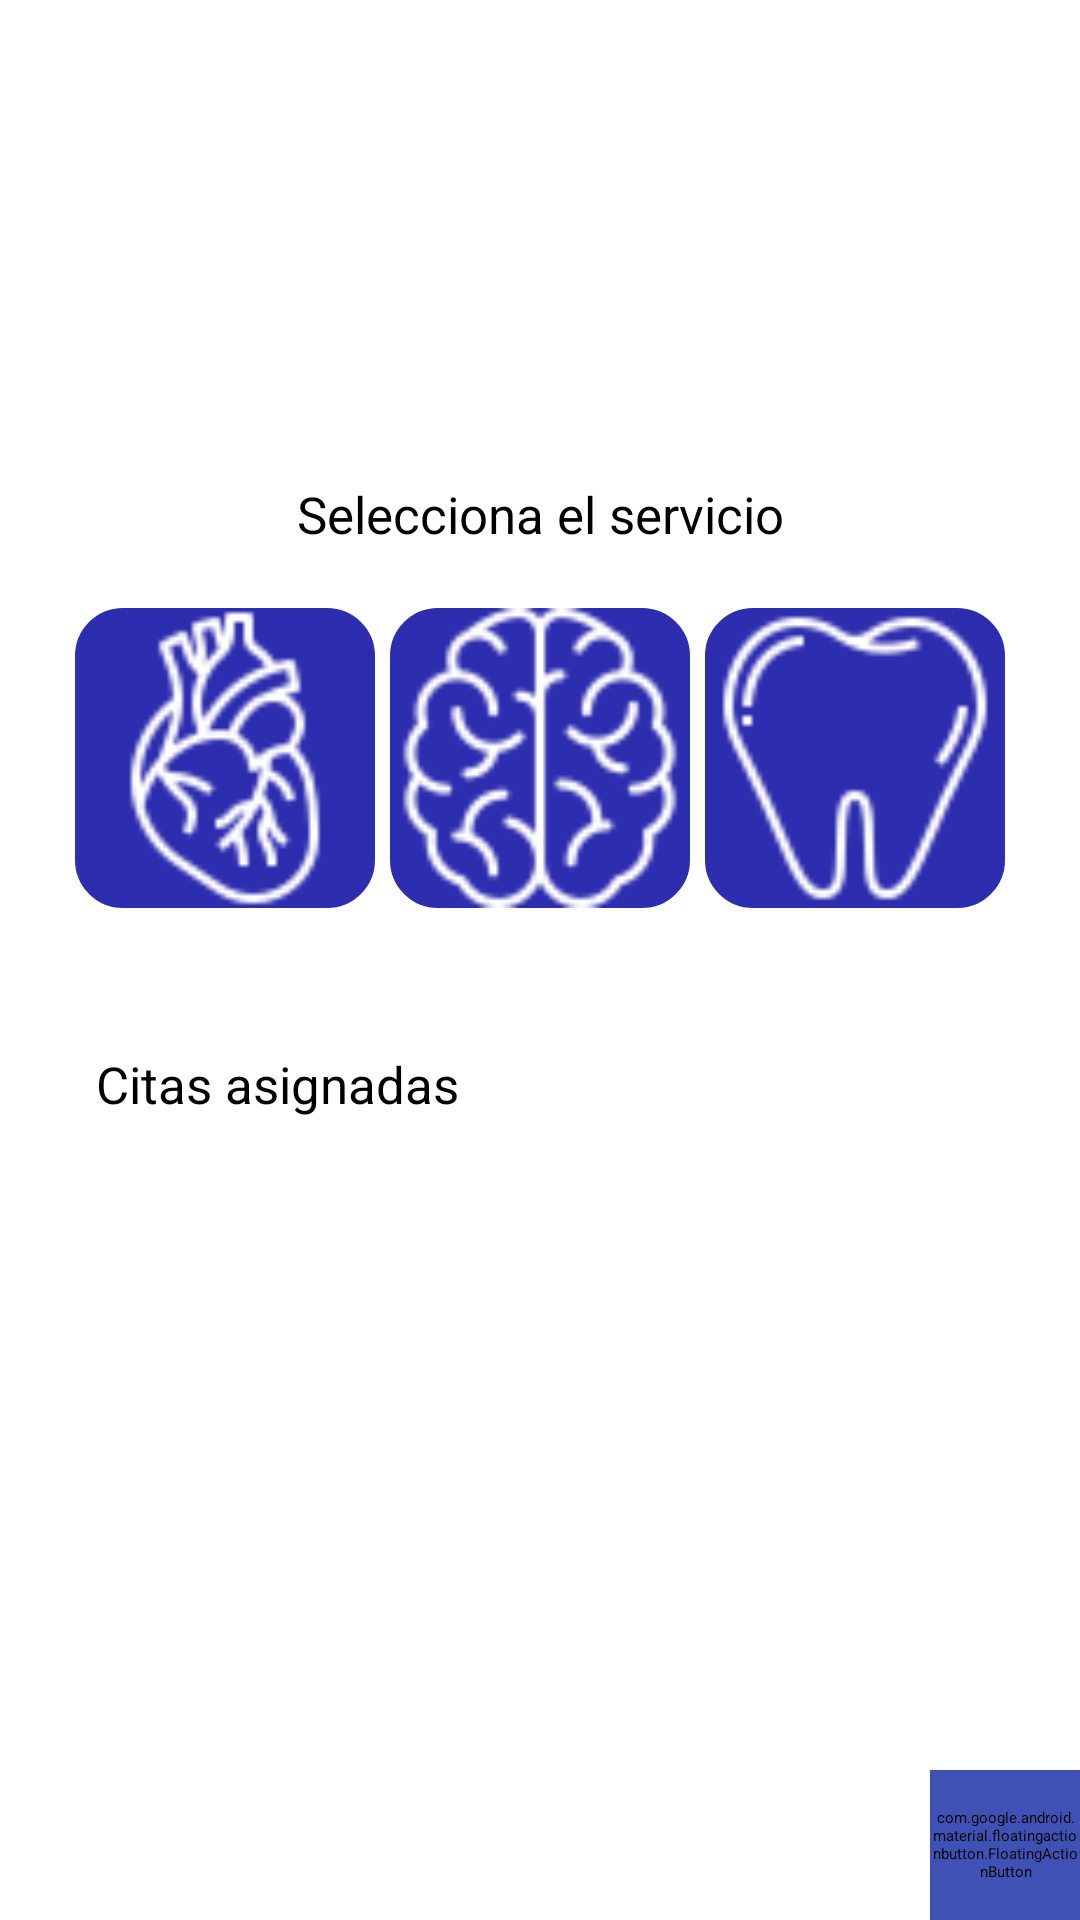

Icon click points for this 1080 x 1920 phone screenshot, format [x,y]:
brain: [540,758]
heart: [225,758]
tooth: [855,758]
